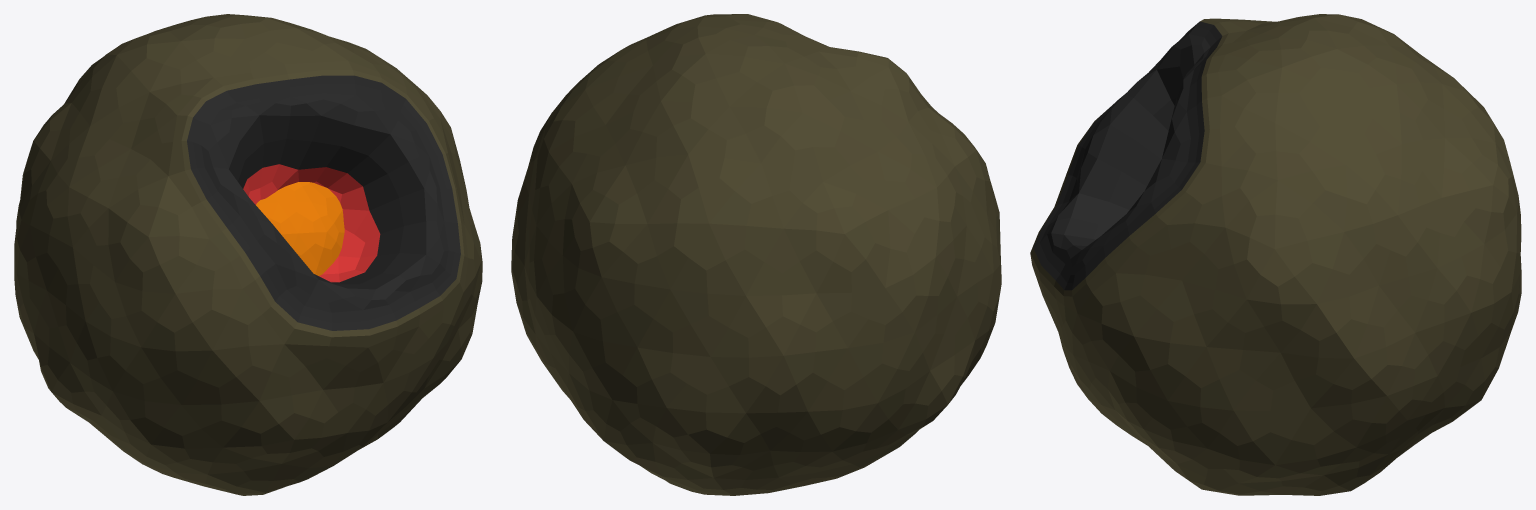
Rendered from Planet7.fbx.
3 renders of one model, left to right at view 1: azimuth 30°, elevation 25°; view 2: azimuth 150°, elevation 25°; view 3: azimuth 270°, elevation 25°, orthographic. The views are drawn at different scales.
Visible parts, largest first — view 1: Surface7, Core7; view 2: Surface7; view 3: Surface7.
Boxes of the visible parts, x1,y1,x2,y2 form: Surface7: (14,14,482,495); Core7: (256,182,344,275); Surface7: (511,14,1001,495); Surface7: (1030,14,1521,495).
Bounding box in the file's own units: 765 × 781 × 792.
